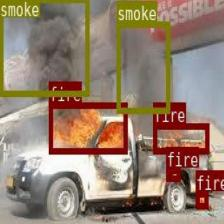fire: (48, 101, 127, 152), (153, 122, 208, 152), (195, 190, 208, 208), (165, 168, 180, 180)
smoke: (0, 0, 88, 94), (116, 20, 170, 112)
